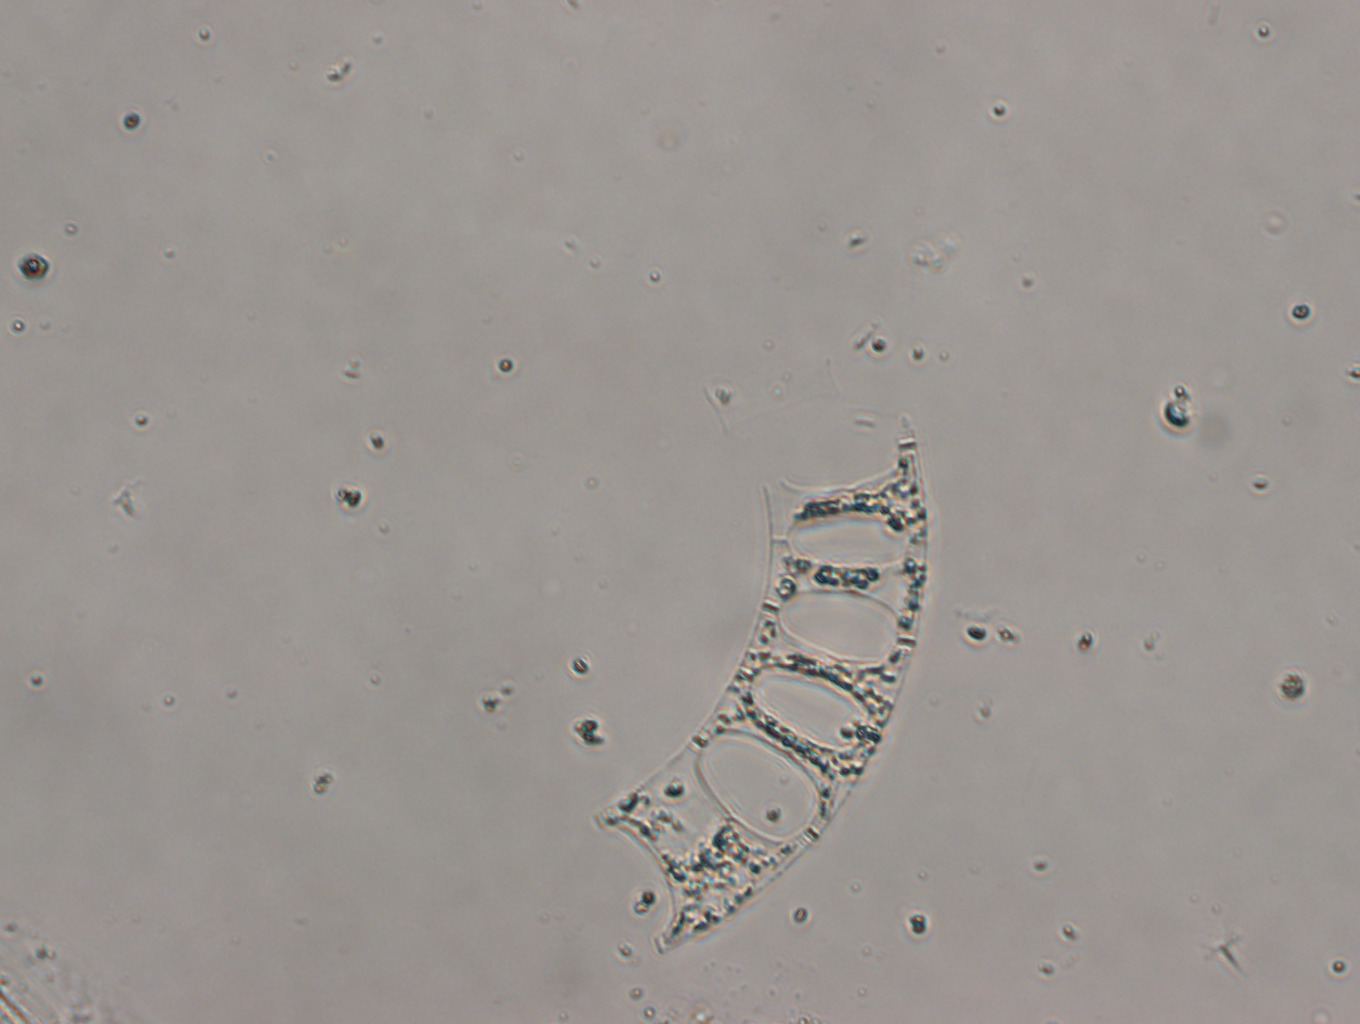eucampia: (593, 413, 930, 959)
